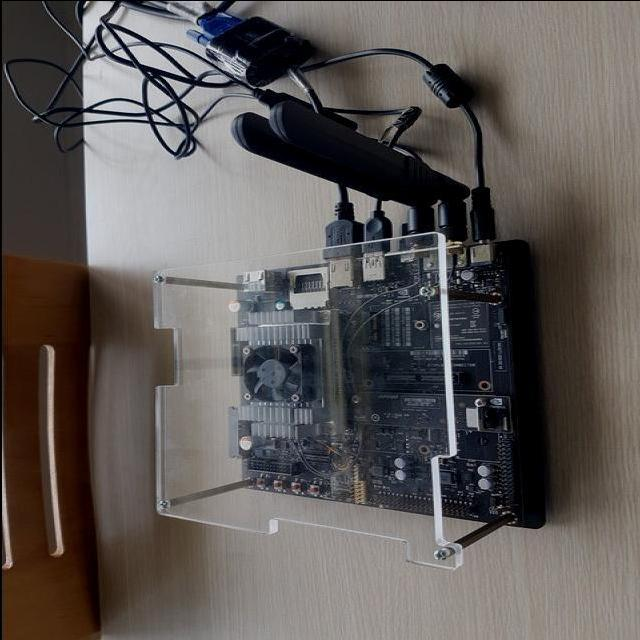Jetson TX2: (234, 98, 545, 530)
